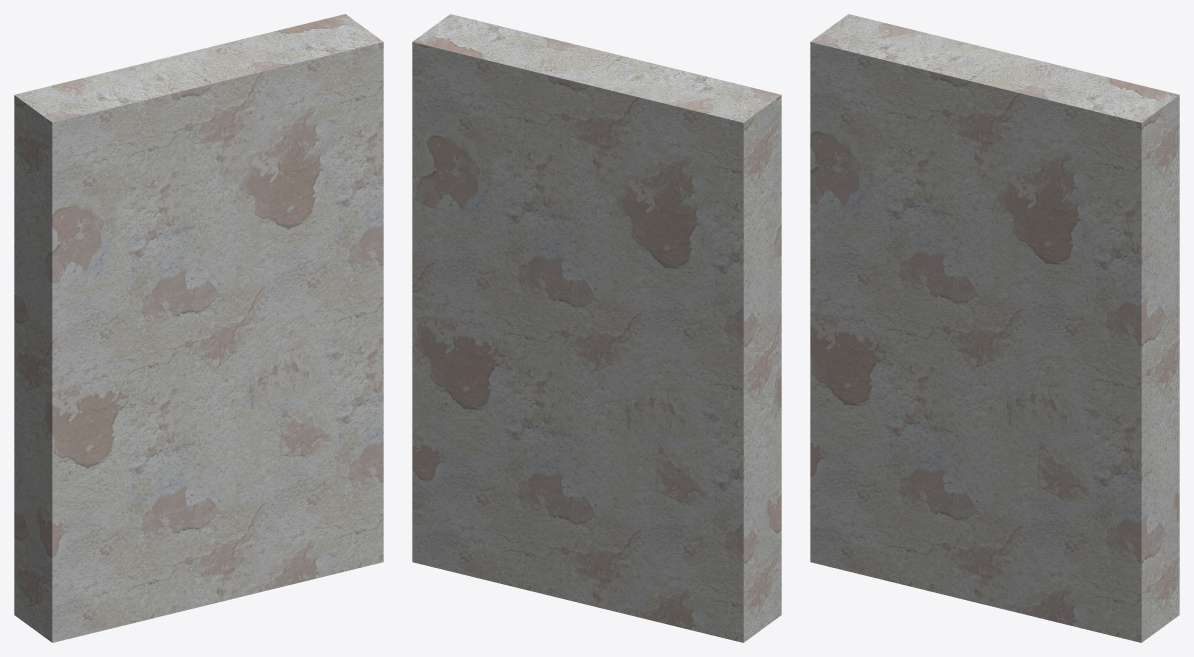
Rendered from terminal_flat_wall_02.glb.
3 renders of one model, left to right at view 1: azimuth 30°, elevation 25°; view 2: azimuth 150°, elevation 25°; view 3: azimuth 330°, elevation 25°, orthographic.
Visible parts, largest first — view 1: Cube; view 2: Cube; view 3: Cube.
Part boxes in pixels (x1,y1,x2,y2): Cube: [14, 14, 383, 642]; Cube: [412, 14, 781, 642]; Cube: [810, 14, 1179, 642].
Size of the model in its own units: 4 by 6 by 0.8.
Materials: 1 (1 with a texture image).
